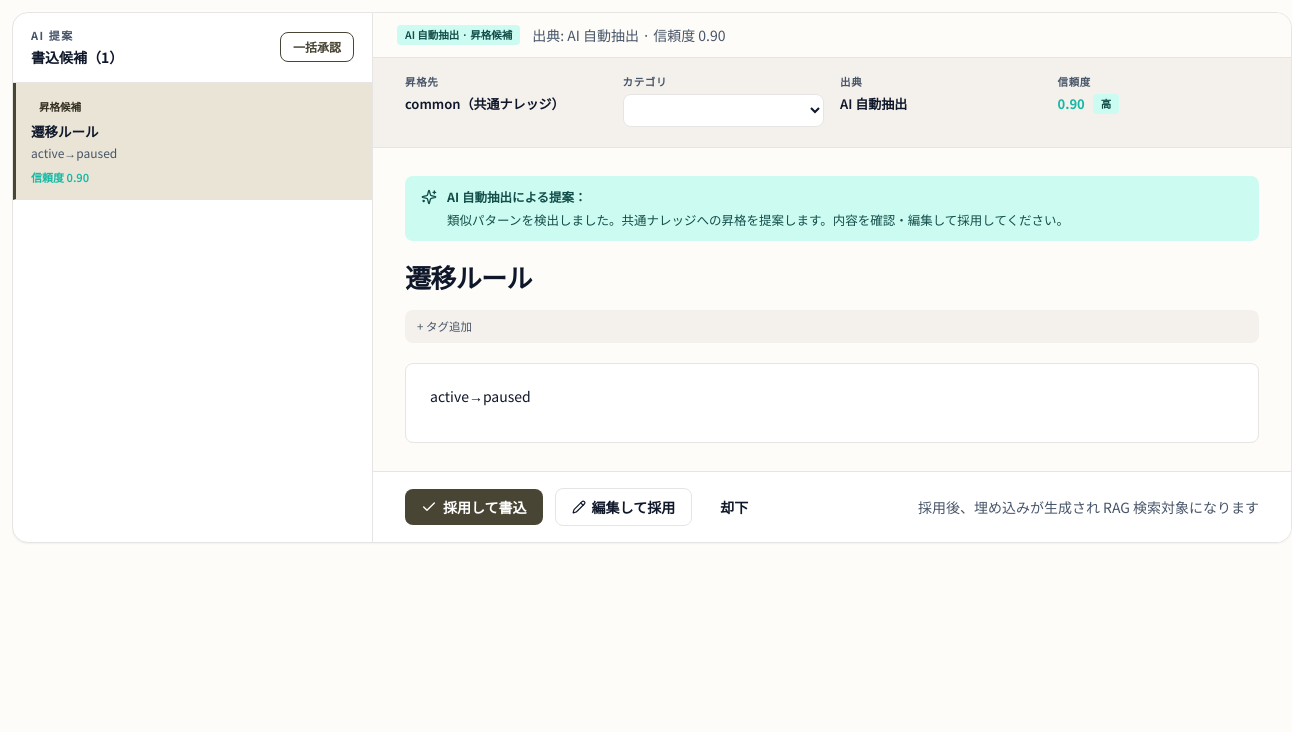
S-K02 PromotionReviewContainer (T-UC-19) › rejects via real DELETE /knowledge/{id} after confirm
Click the button with aria-label "遷移ルール を却下": [734, 507] box [704, 489, 764, 525]
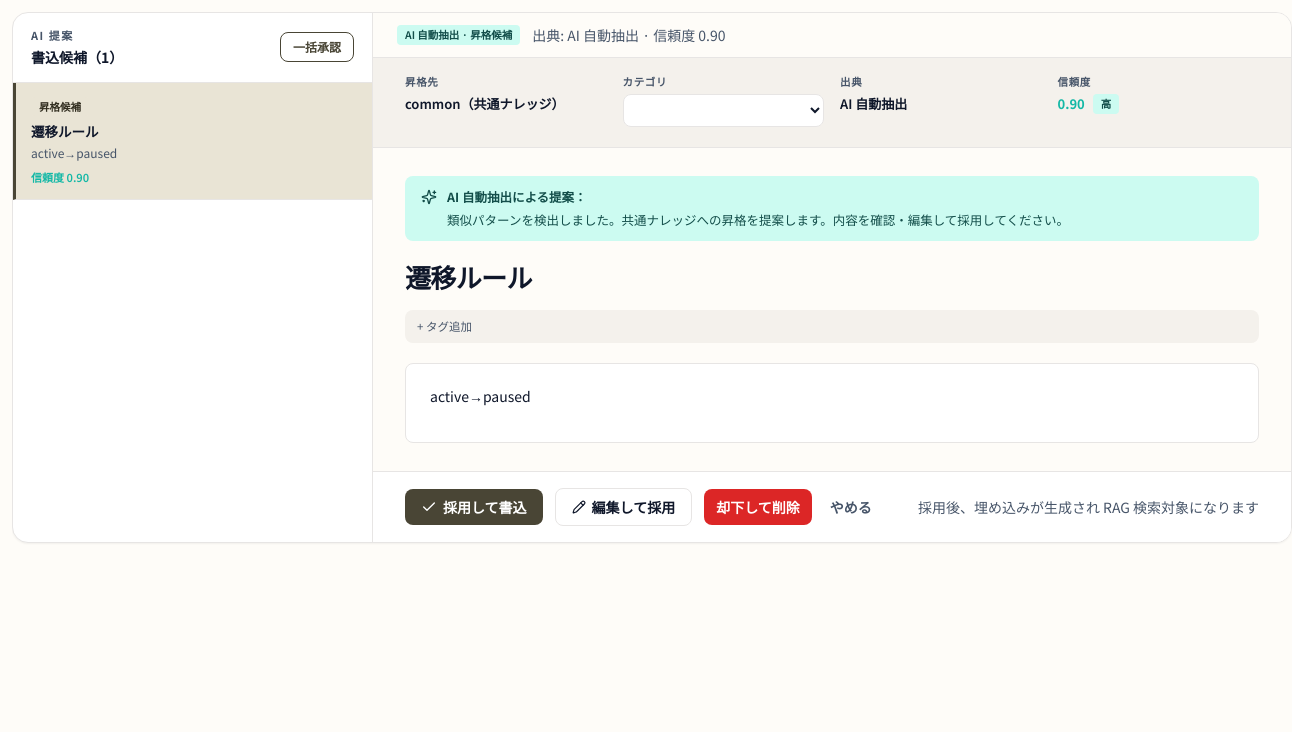
Click the button "却下して削除": [758, 507] box [704, 489, 812, 525]
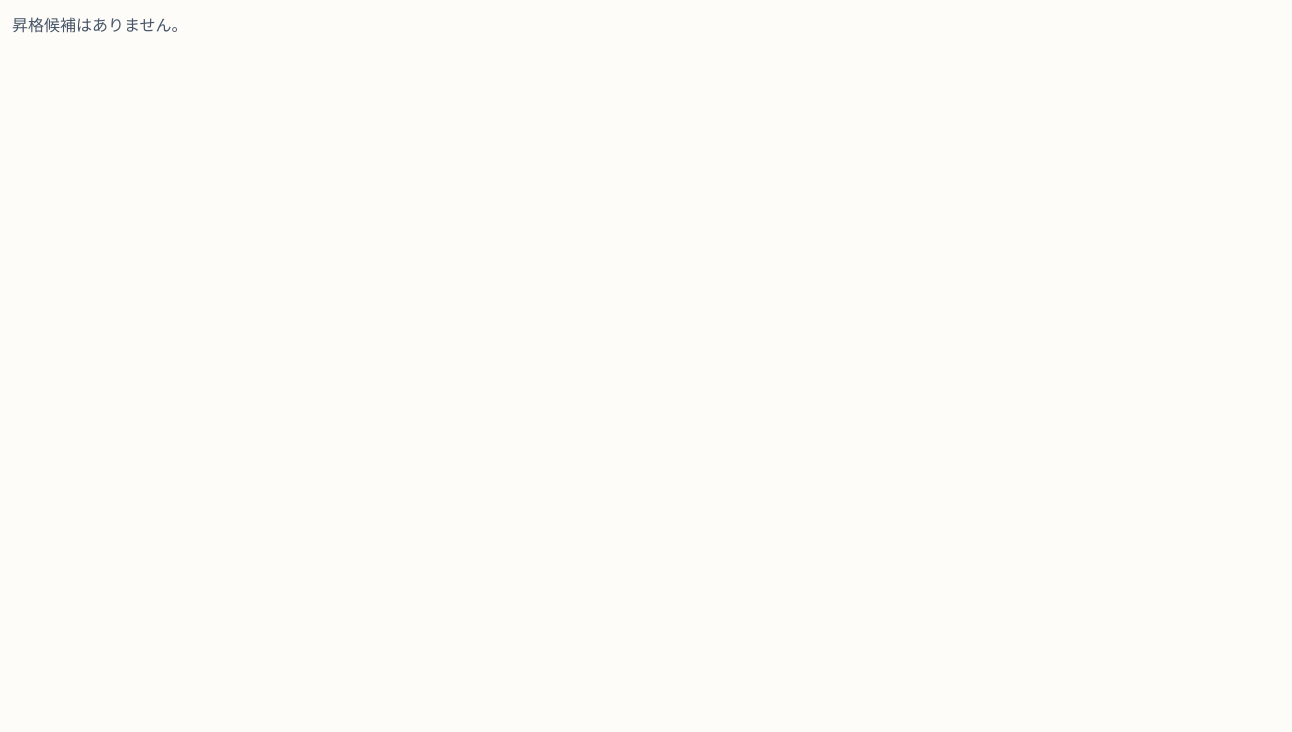
Check: the text "昇格候補はありません。" is shown, box [12, 12, 188, 36]
